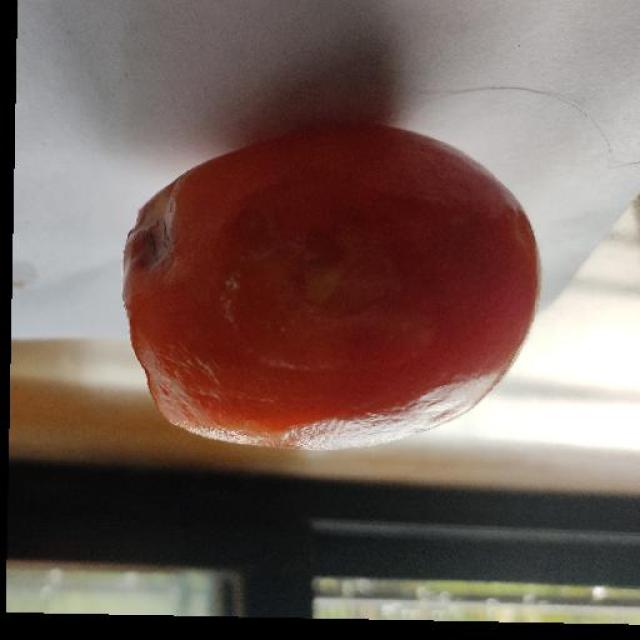Stale_tomato: (134, 147, 504, 416)
